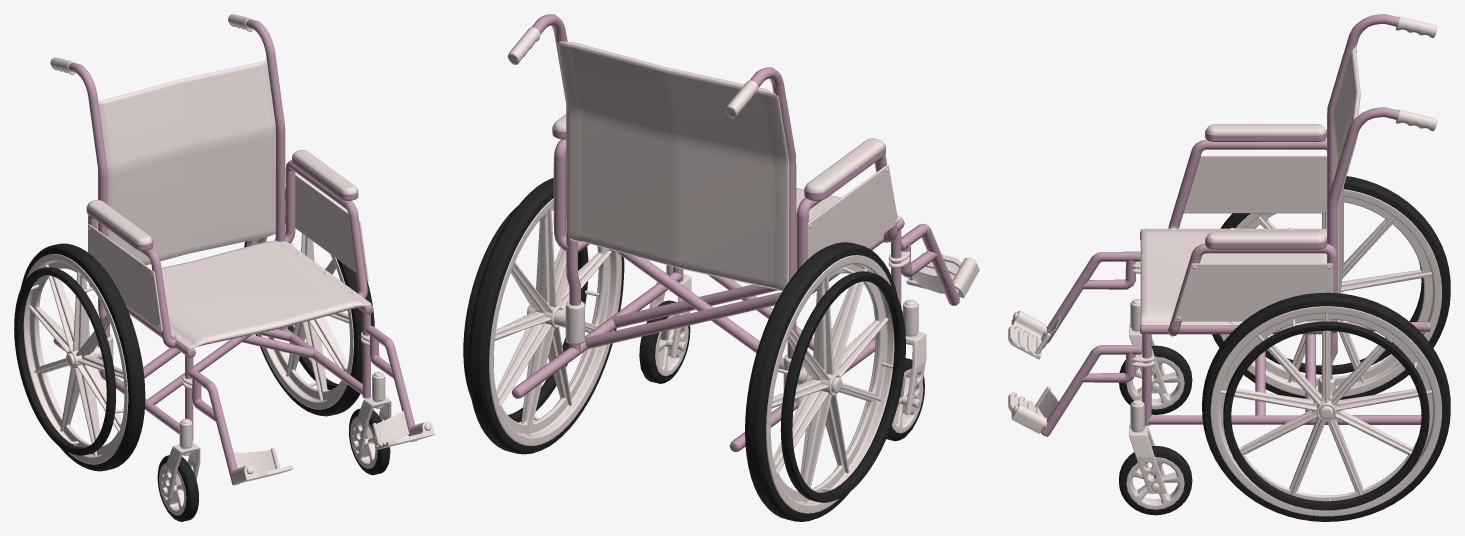
File: icons8_wheelchair.fbx
3 views of the same model, side by side, from view 1: azimuth 30°, elevation 25°; view 2: azimuth 150°, elevation 25°; view 3: azimuth 270°, elevation 25° (orthographic). The views are drawn at different scales.
Parts seen in each view (by area): view 1: icons8_wheelchair; view 2: icons8_wheelchair; view 3: icons8_wheelchair.
Boxes of the visible parts, x1,y1,x2,y2 form: icons8_wheelchair: (14,14,434,521); icons8_wheelchair: (463,14,979,521); icons8_wheelchair: (1008,14,1450,521).
Size of the model in its own units: 148 by 200 by 199.
